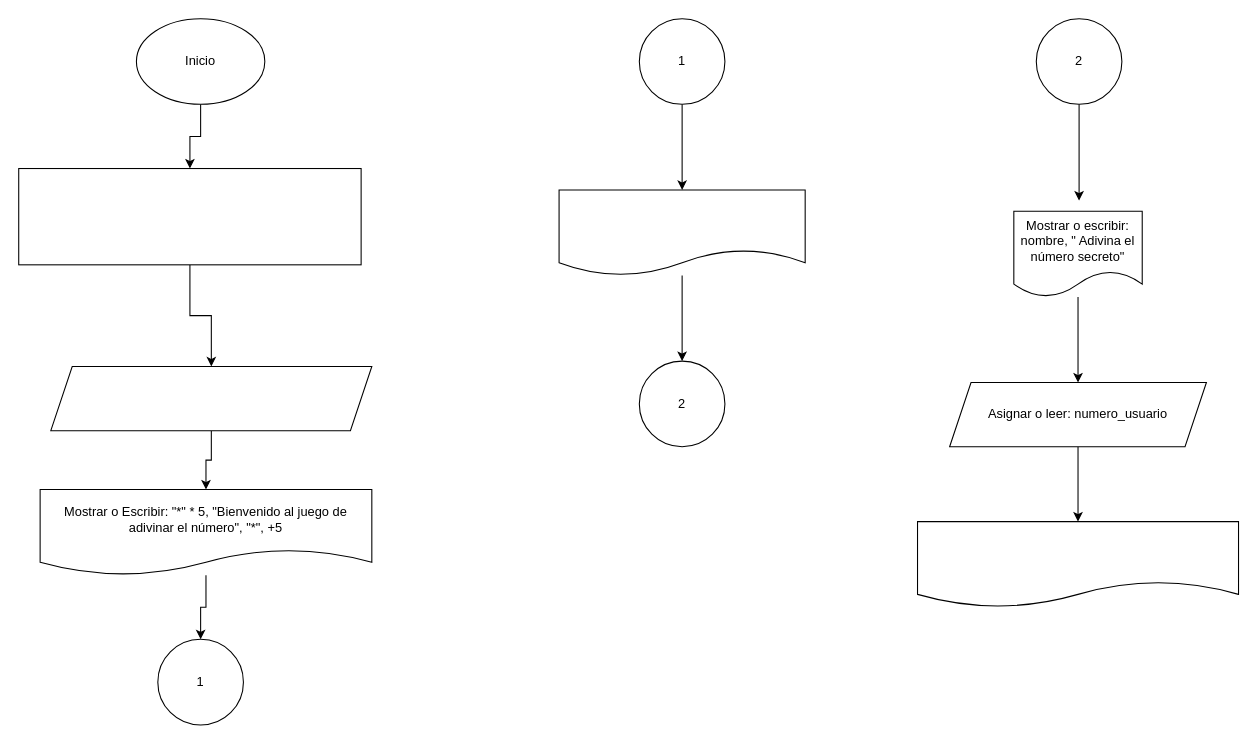
This 1257x744 diagram has some shape labels left out. Each missing label, with the centre of its shape:
Asignar: numero_secreto = random (1,100): (211,398)
Asignar: resultado = numero_secreto == numero_usuario: (1077,564)
Declarar: numero_usuario numero_secreto nombre resultado: (189,216)
Mostrar o Escribir: "Escribe tu nombre": (681,232)
